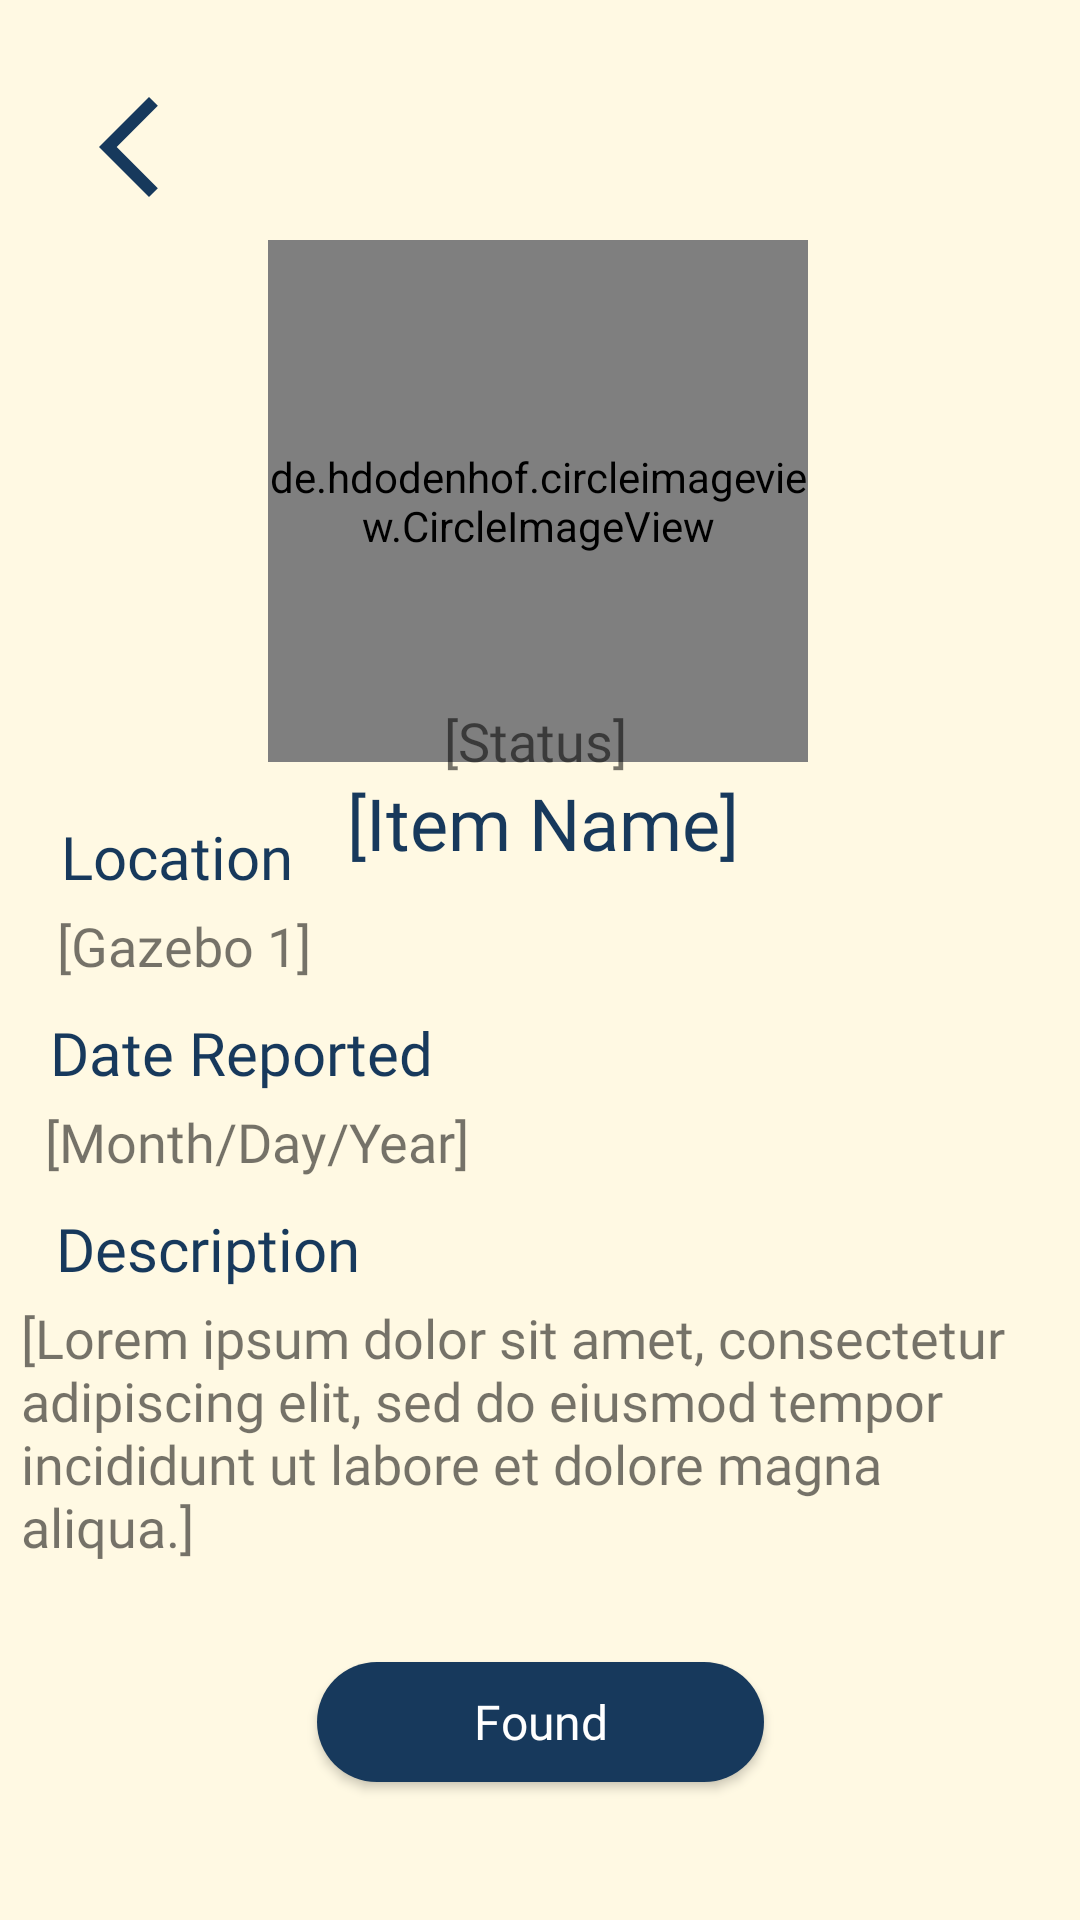

Where to tap for icons on this 1080x1920 app screen, as [x,y]:
arrow back: [128,147]
